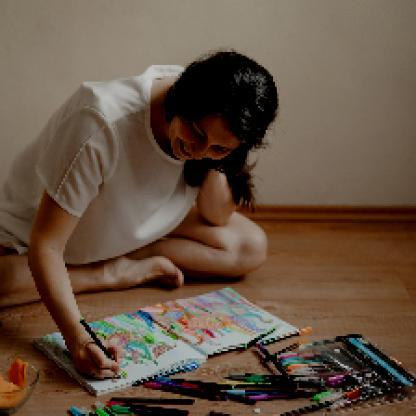child: (171, 120, 233, 161)
